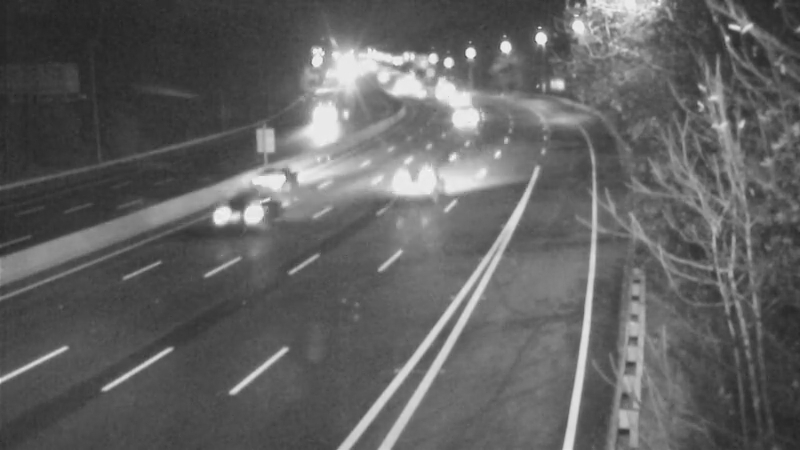vehicle: (379, 143, 459, 223), (237, 132, 317, 212), (208, 175, 288, 255), (420, 67, 470, 117), (433, 73, 483, 123), (439, 92, 489, 142), (299, 91, 349, 141)
